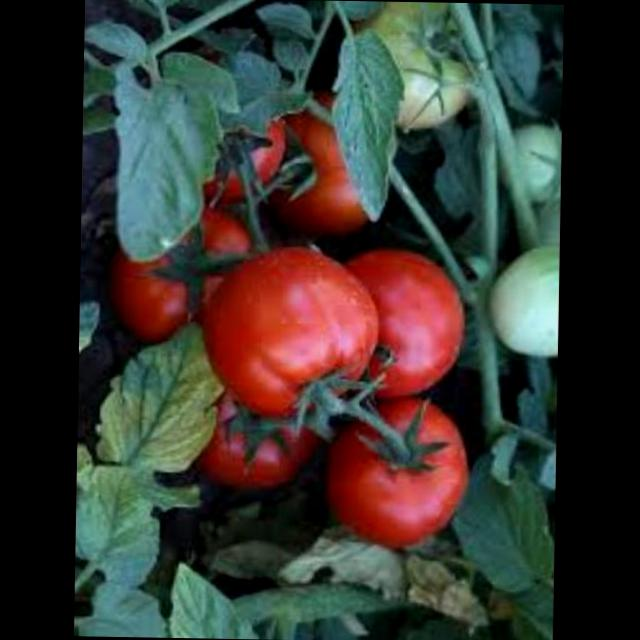Tomato: (202, 235, 387, 417), (332, 392, 484, 548), (114, 196, 256, 342), (350, 248, 470, 403), (347, 1, 485, 133), (208, 373, 333, 502), (274, 112, 379, 244), (500, 112, 564, 259), (210, 109, 300, 210), (488, 248, 562, 362)
